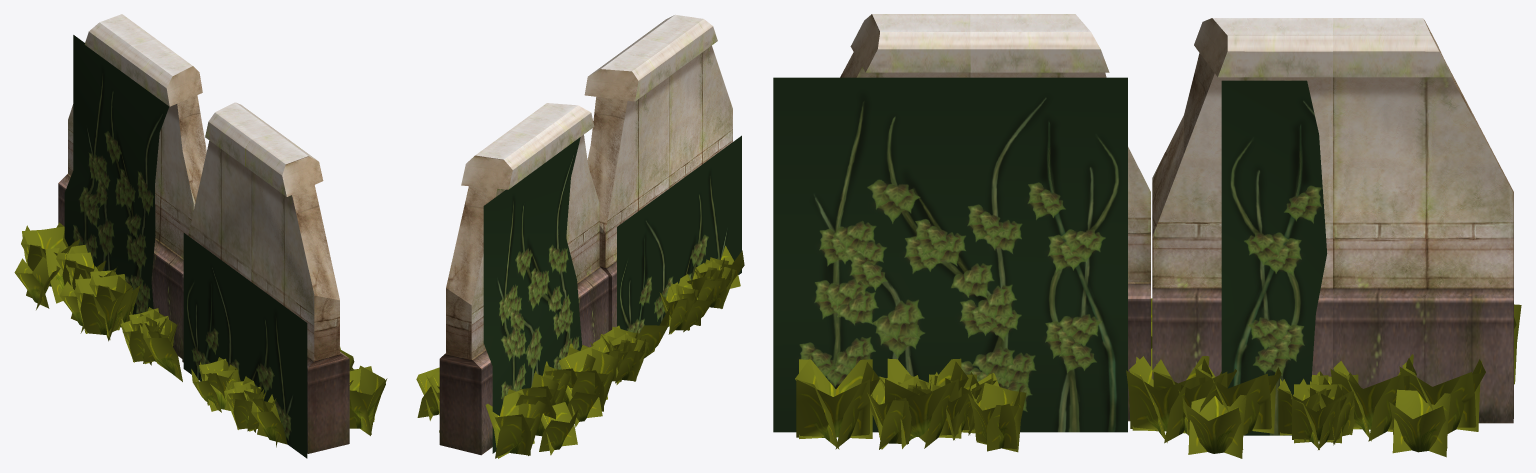
Rendered from a_SWTcwall04.glb.
3 views of the same model, side by side, from view 1: azimuth 30°, elevation 25°; view 2: azimuth 150°, elevation 25°; view 3: azimuth 270°, elevation 25° (orthographic). The views are drawn at different scales.
Parts seen in each view (by area): view 1: a_SWTcwall04; view 2: a_SWTcwall04; view 3: a_SWTcwall04.
Boxes of the visible parts, x1,y1,x2,y2 form: a_SWTcwall04: (14, 14, 387, 458); a_SWTcwall04: (416, 14, 744, 458); a_SWTcwall04: (773, 14, 1521, 458).
Size of the model in its own units: 1.98 by 3.05 by 5.32.
3 materials, 3 textured.
